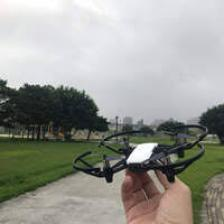drone: (74, 124, 209, 182)
